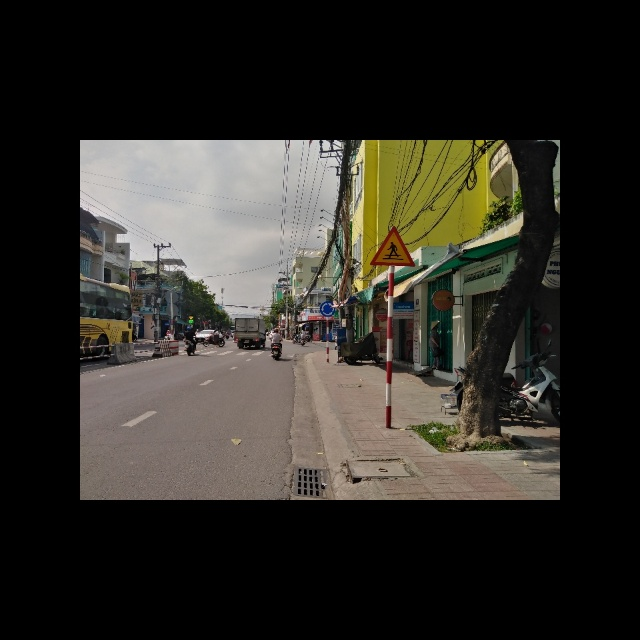Nơi giao nhau chạy theo vòng xuyến: (319, 300, 335, 316)
Đường người đi bộ sang đường: (371, 226, 415, 267)
